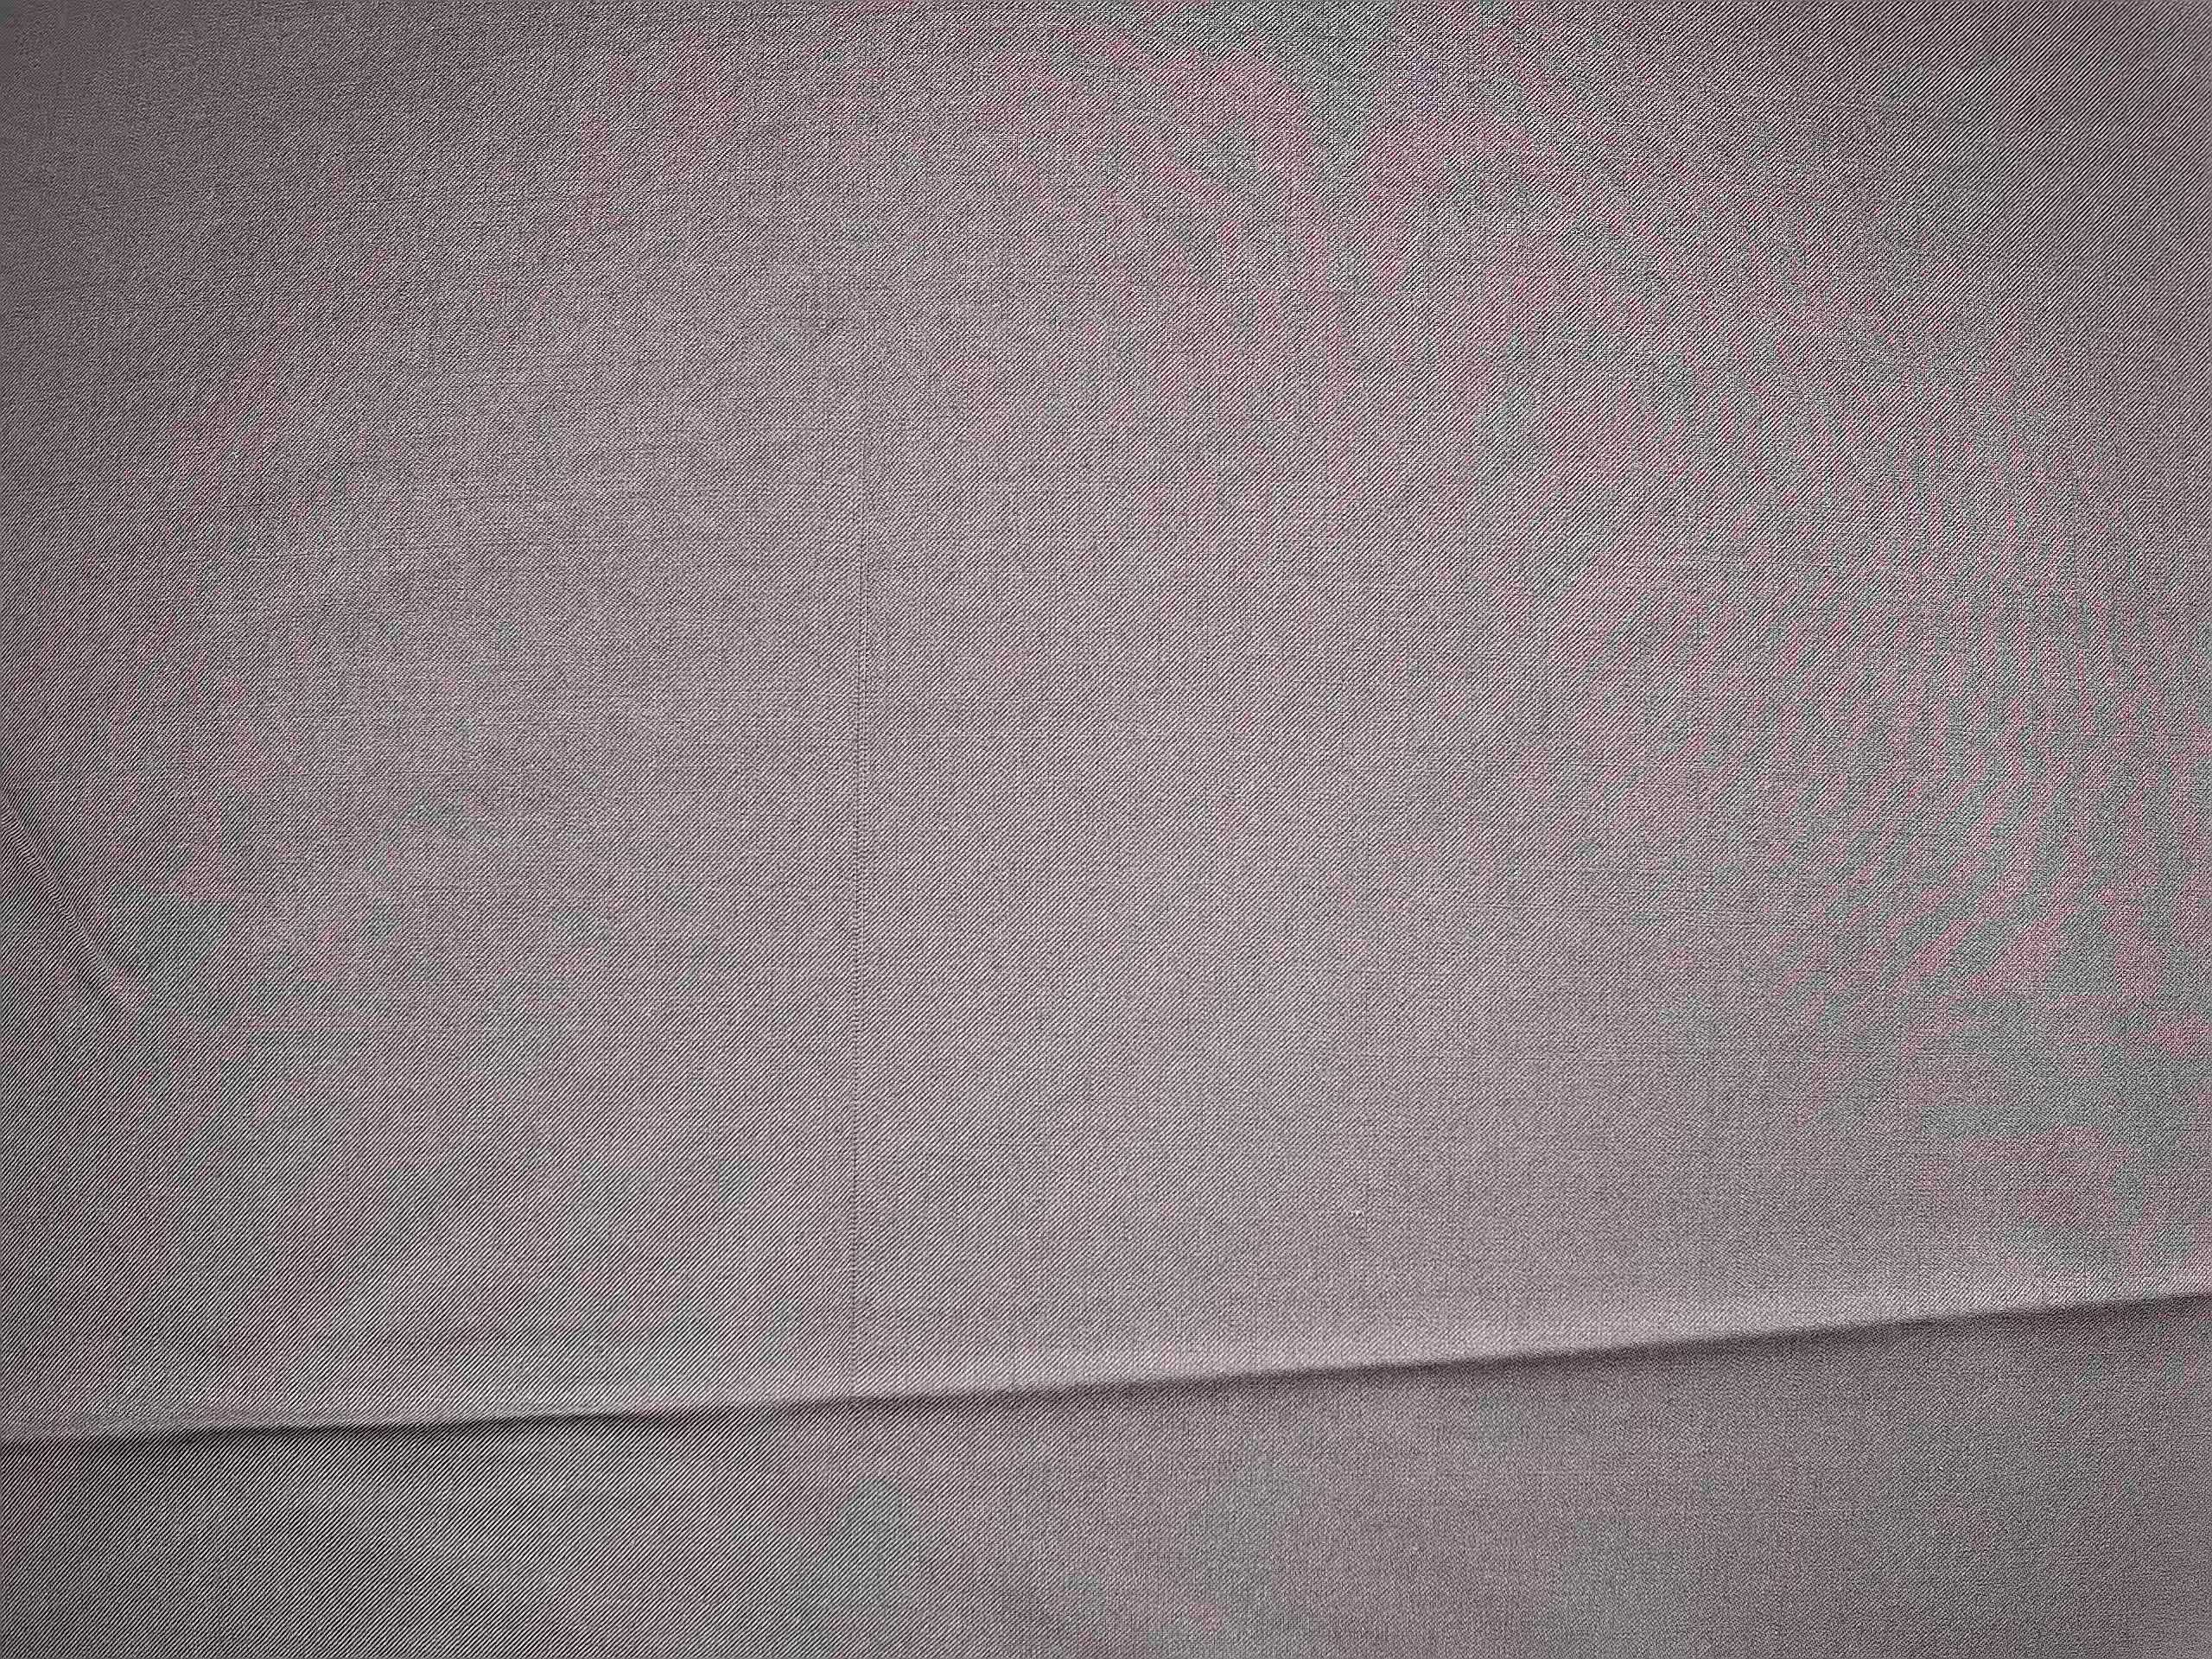hanging-warp: (831, 457, 885, 1434)
